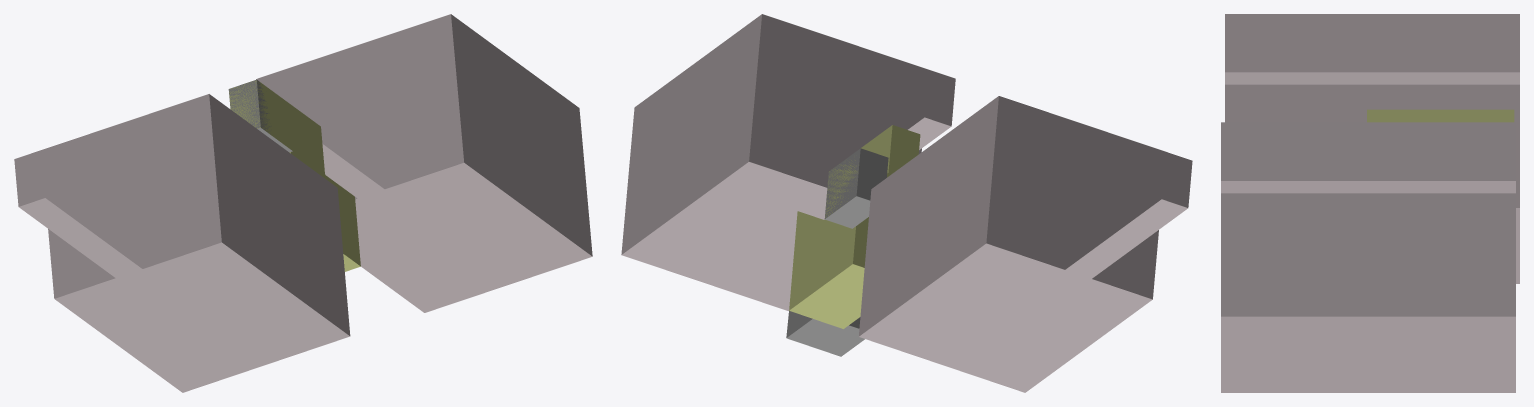
3 views of the same model, side by side, from view 1: azimuth 30°, elevation 25°; view 2: azimuth 150°, elevation 25°; view 3: azimuth 270°, elevation 25° (orthographic). The views are drawn at different scales.
Parts seen in each view (by area): view 1: 0_2_3_3_3_1_0_0_2_2; view 2: 0_2_3_3_3_1_0_0_2_2; view 3: 0_2_3_3_3_1_0_0_2_2.
Part boxes in pixels (x1,y1,x2,y2): 0_2_3_3_3_1_0_0_2_2: (14,14,592,392); 0_2_3_3_3_1_0_0_2_2: (621,14,1192,392); 0_2_3_3_3_1_0_0_2_2: (1221,14,1519,392).
Bounding box in the file's own units: 24.17 × 10.36 × 12.16.
